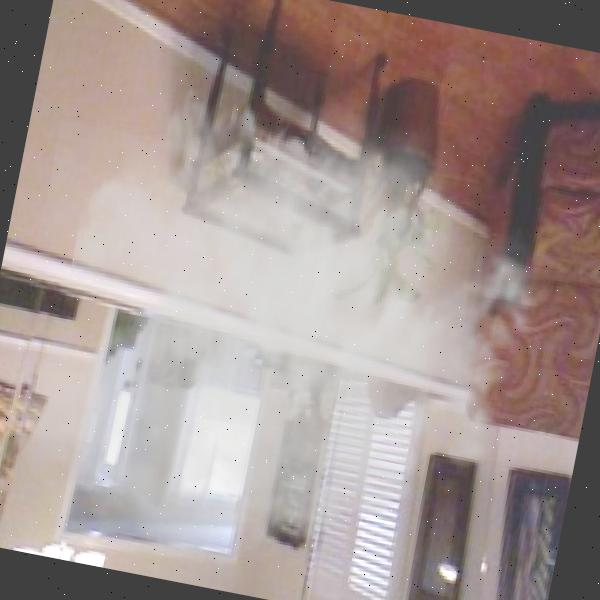smoke: (0, 30, 586, 600)
